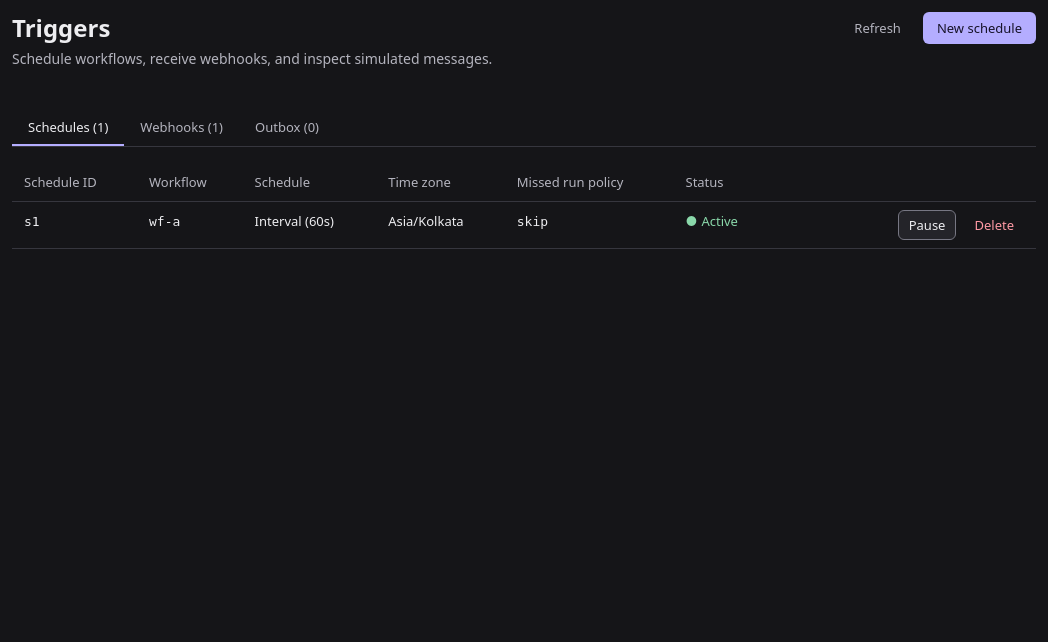
Test: Triggers delivery tokens (remote token mode) › rotates only after confirmation and shows the new token once
Click the tab "Webhooks (1)" at (182, 128), box [124,110,239,146]
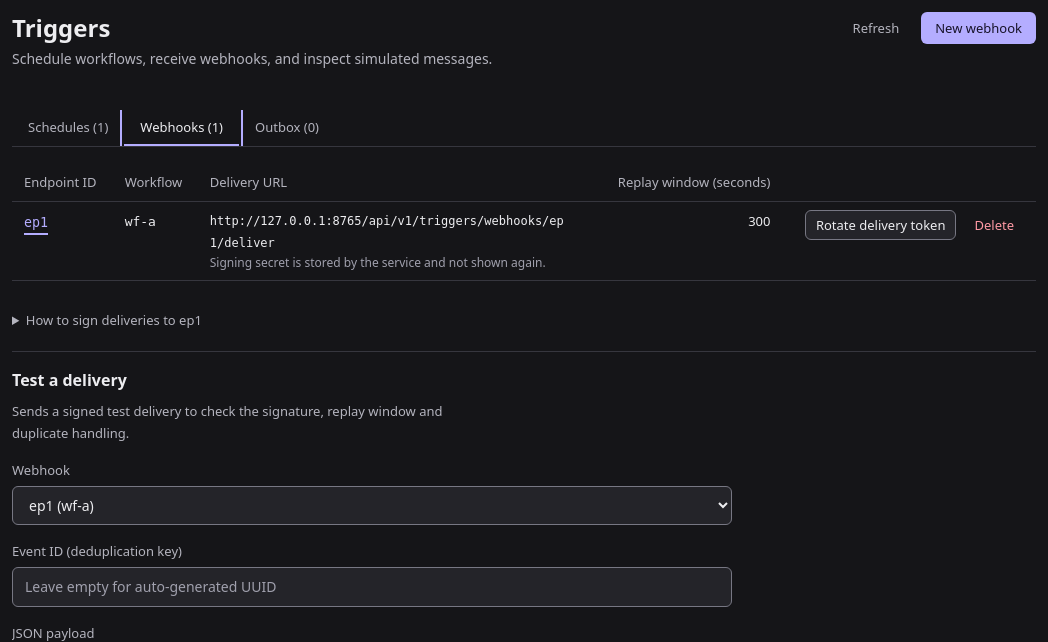
Click the button with test id "btn-rotate-delivery-token-ep1" at (881, 225), box [805,210,956,240]
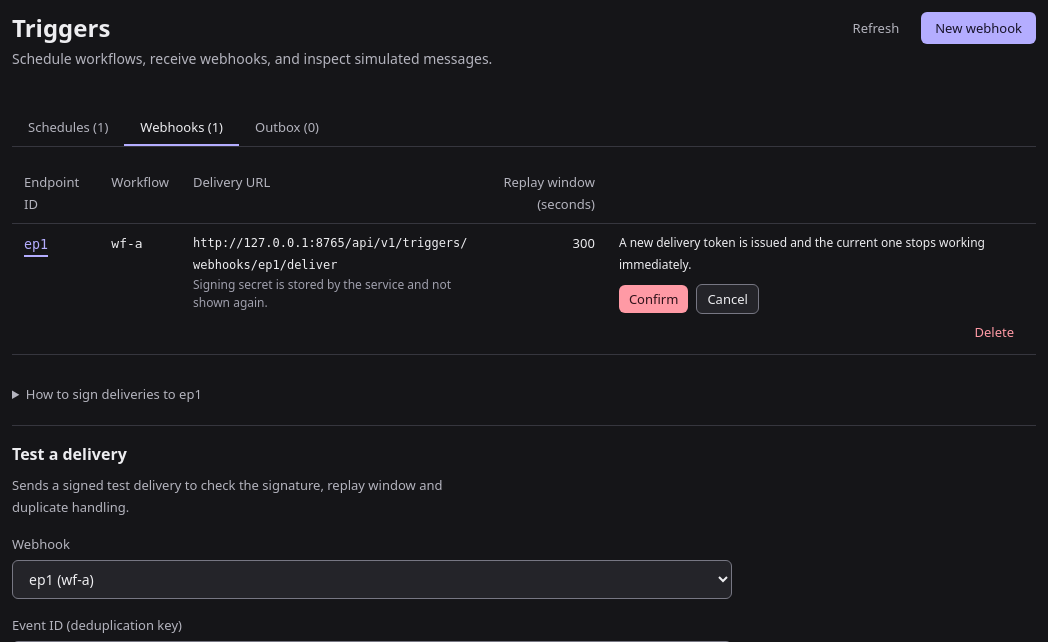
Now the text "A new delivery token is issued and the current one stops working immediately." is shown, box [619,232,1024,276]
Click the button with test id "btn-rotate-delivery-token-ep1-confirm" at (654, 299), box [619,285,688,313]
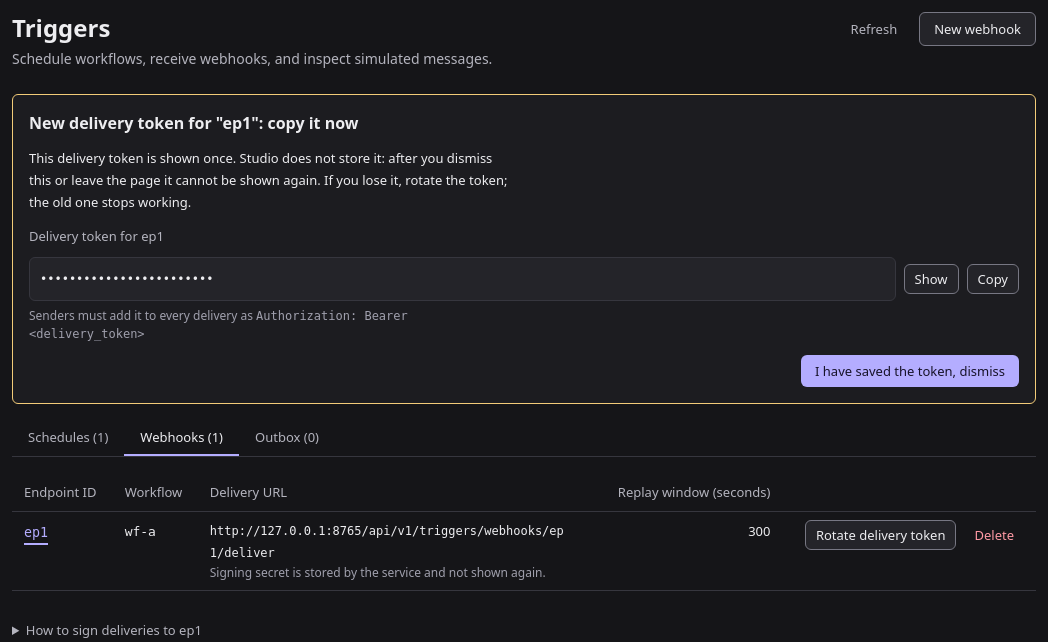
Expected: the text with test id "rotated-delivery-token-value" does not show "dlv_rotated_token_sentinel_zyxwvutsrqponmlkji", [29,257,896,301]
Now the heading "New delivery token for \"ep1\": copy it now" is shown, box [29,112,358,134]
Now the element with test id "delivery-token-panel" shows "Authorization: Bearer <delivery_token>", box [29,309,408,341]
Click the button "I have saved the token, dismiss" at (910, 371), box [801,355,1019,387]
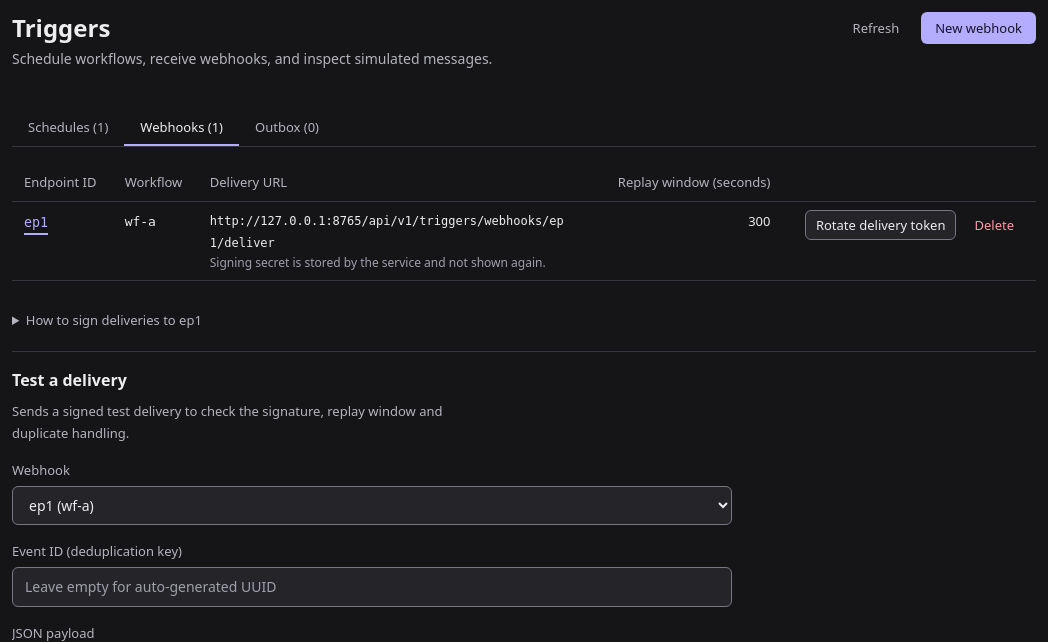
Now the element with test id "delivery-token-panel" is gone
